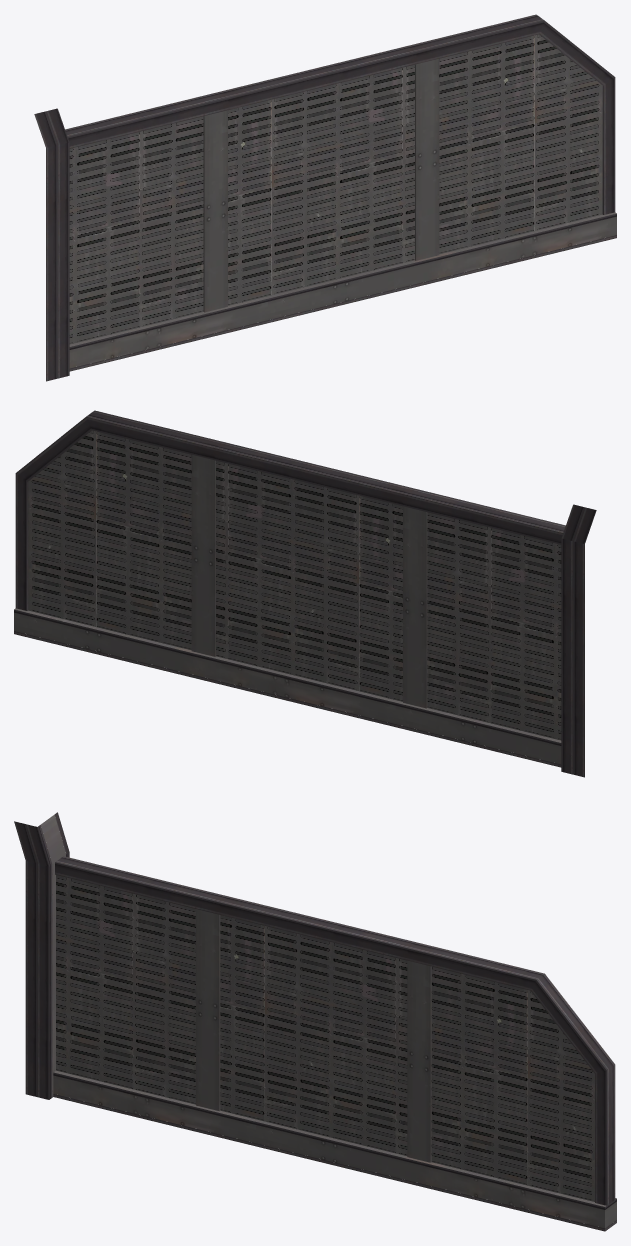
The picture shows the model from 3 angles, top to bottom: view 1: azimuth 30°, elevation 25°; view 2: azimuth 150°, elevation 25°; view 3: azimuth 330°, elevation 25°; orthographic projection.
Parts seen in each view (by area): view 1: body0_model0_lod0_mesh3, body0_model0_lod0_mesh2, body0_model0_lod0_mesh0, body0_model0_lod0_mesh1; view 2: body0_model0_lod0_mesh3, body0_model0_lod0_mesh2, body0_model0_lod0_mesh0, body0_model0_lod0_mesh1; view 3: body0_model0_lod0_mesh3, body0_model0_lod0_mesh2, body0_model0_lod0_mesh0, body0_model0_lod0_mesh1.
Boxes of the visible parts, x1,y1,x2,y2 form: body0_model0_lod0_mesh3: (69, 34, 602, 344); body0_model0_lod0_mesh2: (34, 14, 616, 381); body0_model0_lod0_mesh0: (69, 59, 616, 368); body0_model0_lod0_mesh1: (69, 212, 616, 346); body0_model0_lod0_mesh3: (28, 430, 561, 740); body0_model0_lod0_mesh2: (14, 410, 596, 777); body0_model0_lod0_mesh0: (14, 455, 561, 764); body0_model0_lod0_mesh1: (14, 608, 561, 742); body0_model0_lod0_mesh3: (56, 875, 594, 1201); body0_model0_lod0_mesh2: (14, 812, 616, 1231); body0_model0_lod0_mesh0: (53, 909, 616, 1228); body0_model0_lod0_mesh1: (41, 815, 616, 1206).
Size of the model in its own units: 400 by 176 by 23.98.
4 materials, 4 textured.
